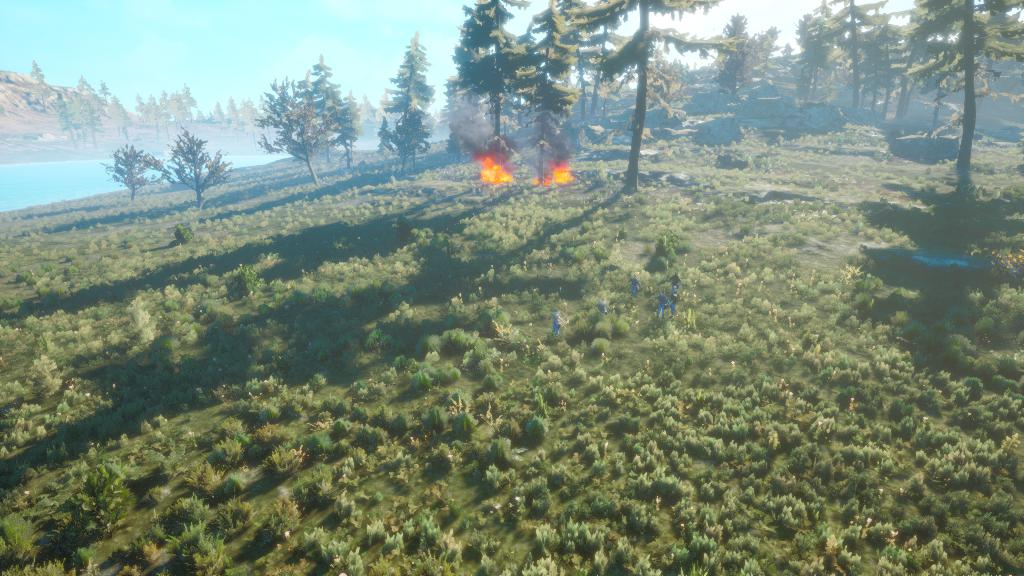Fire: (478, 156, 515, 188), (532, 164, 575, 189)
human: (651, 266, 695, 325), (541, 300, 568, 348), (596, 278, 619, 330), (630, 260, 648, 304)
smoke: (459, 128, 509, 152), (551, 132, 573, 161)
